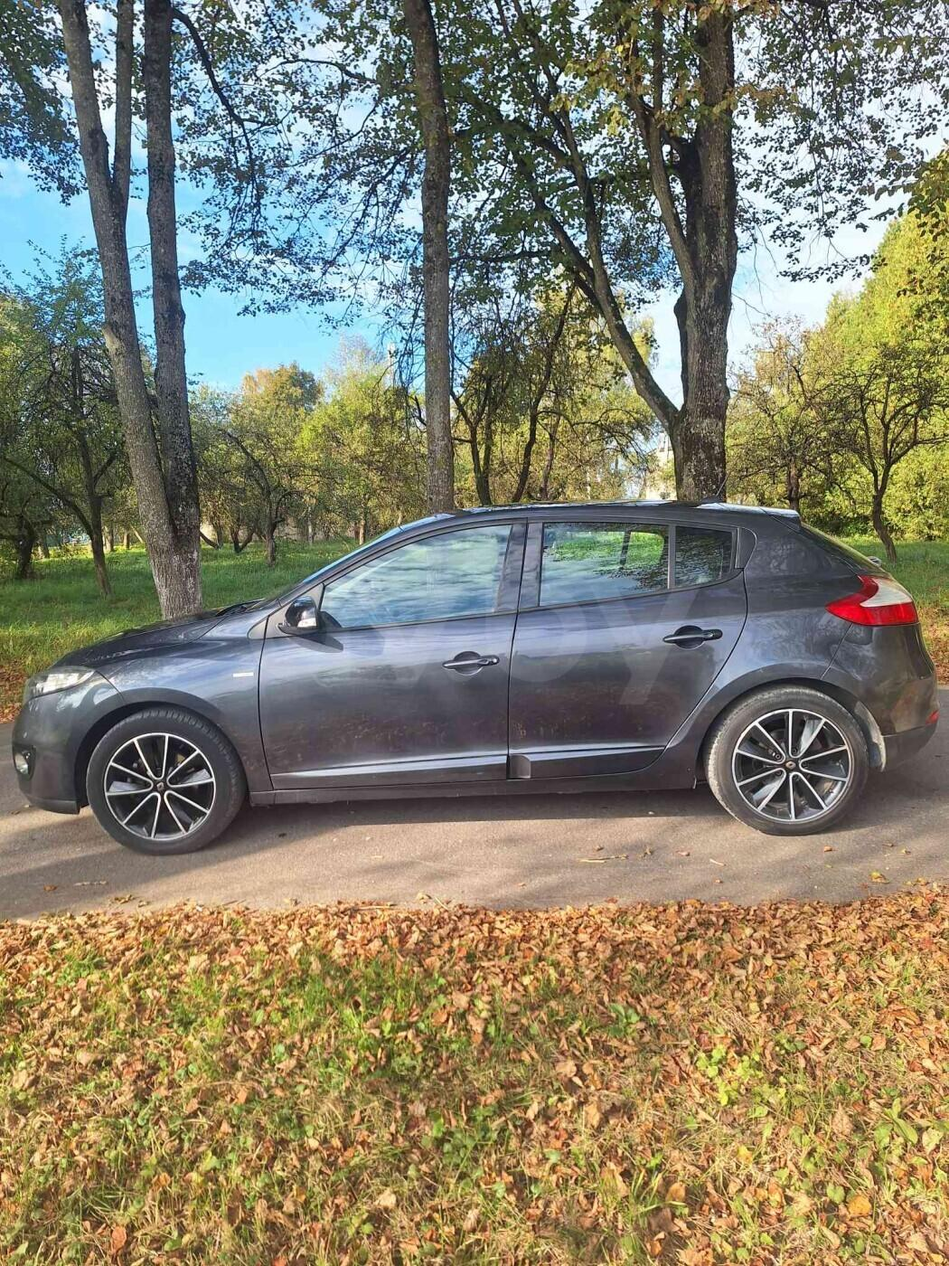Megane_2012-2014: (13, 496, 947, 854)
